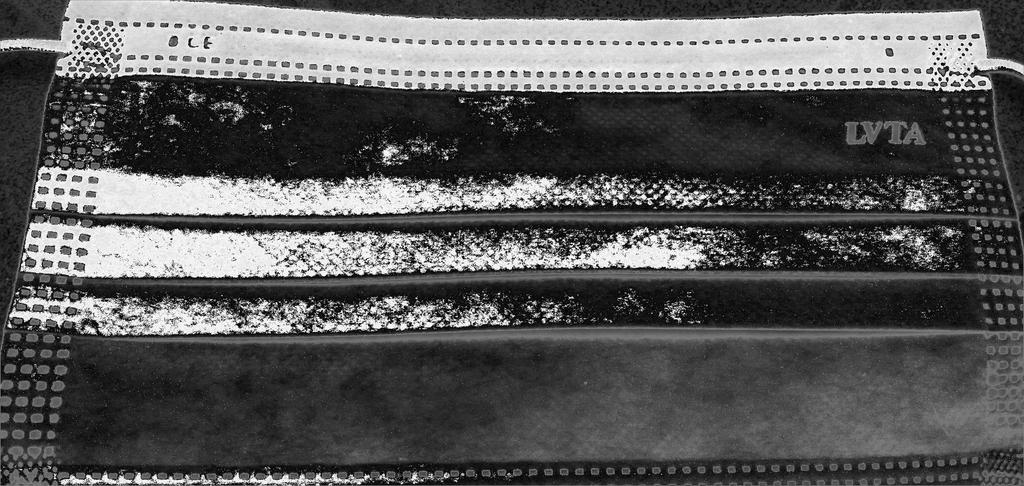High GSM: (81, 82, 980, 454)
